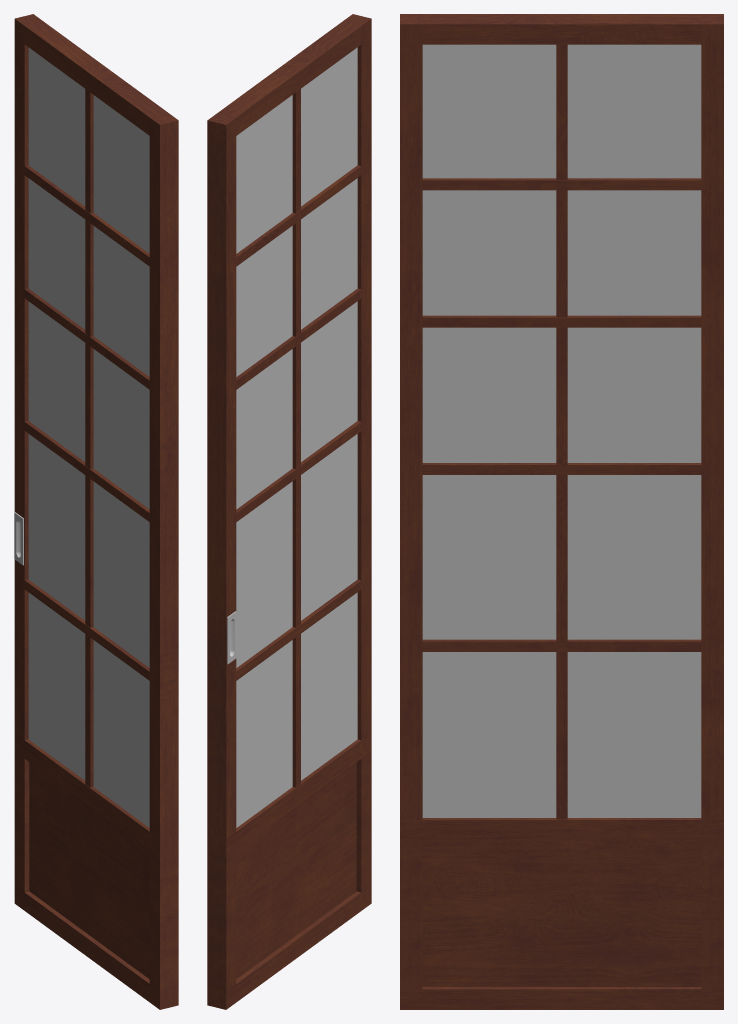
File: SM_InnerDoor01P.fbx
3 renders of one model, left to right at view 1: azimuth 30°, elevation 25°; view 2: azimuth 150°, elevation 25°; view 3: azimuth 270°, elevation 25°, orthographic. The views are drawn at different scales.
Visible parts, largest first — view 1: SM_InnerDoor01P; view 2: SM_InnerDoor01P; view 3: SM_InnerDoor01P.
Part boxes in pixels (x1,y1,x2,y2): SM_InnerDoor01P: (14,14,178,1009); SM_InnerDoor01P: (207,14,371,1009); SM_InnerDoor01P: (400,14,723,1009).
Size of the model in its own units: 4.92 by 62.13 by 209.
